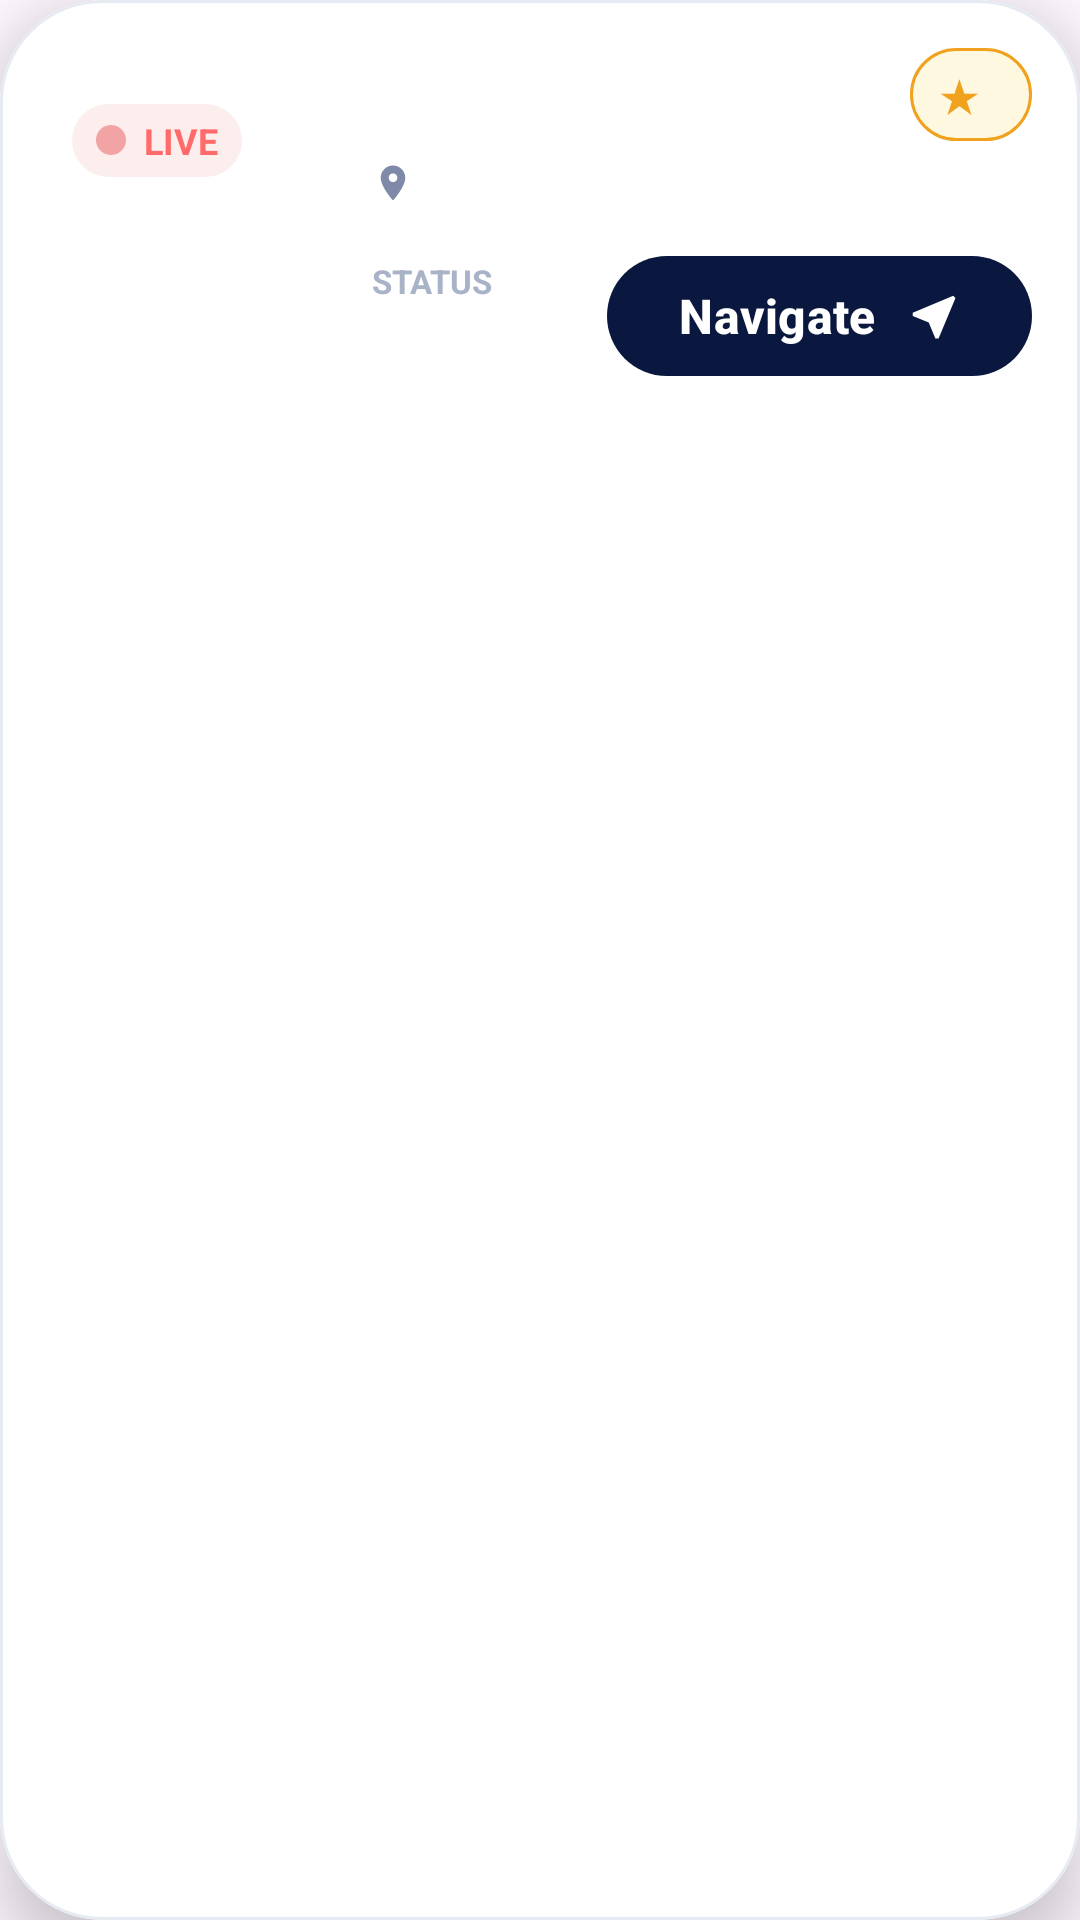

Icons on this 1080×1920 Android screen, each with its box as [x1,y1,x2,y2]:
location: [380,165,406,200]
